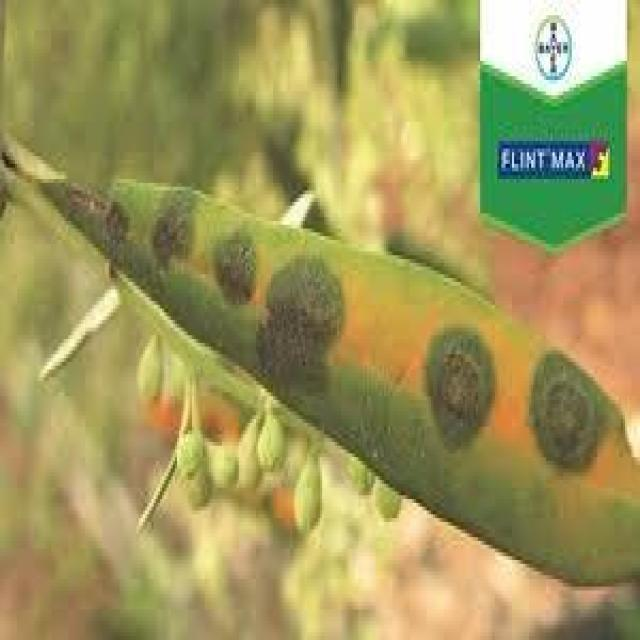OlivePeacockSpot: (40, 183, 638, 579)
